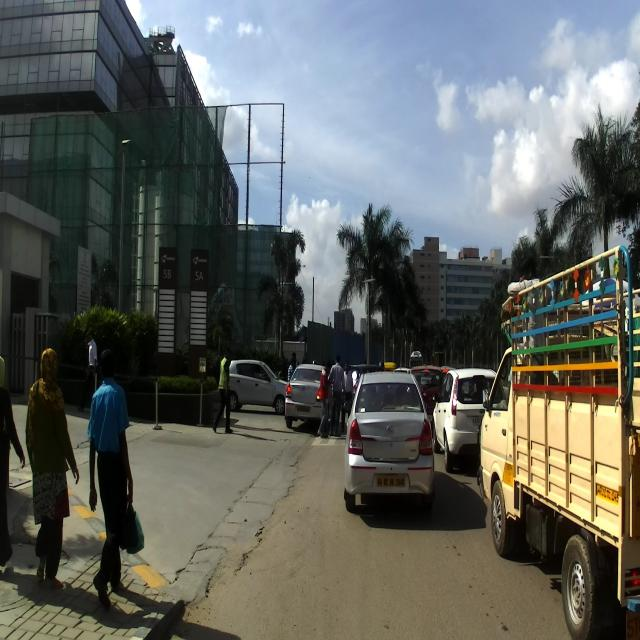Car_Ford: (432, 366, 498, 472)
Car_Toyota: (342, 368, 437, 512)
truck: (476, 243, 640, 640)
